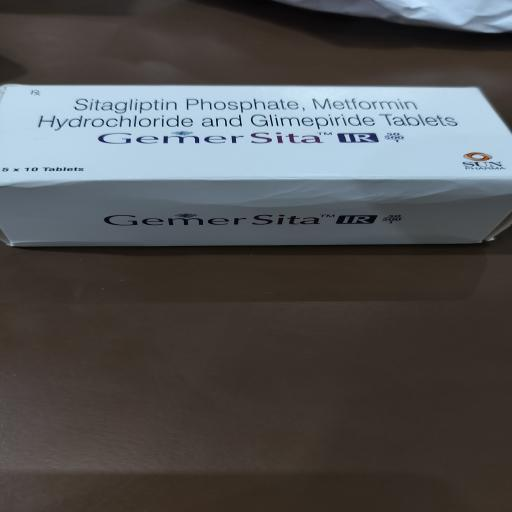Sitagliptin-Phosphate: (24, 94, 462, 130), (82, 205, 414, 234), (91, 127, 418, 151)
medicine: (0, 83, 506, 241)
